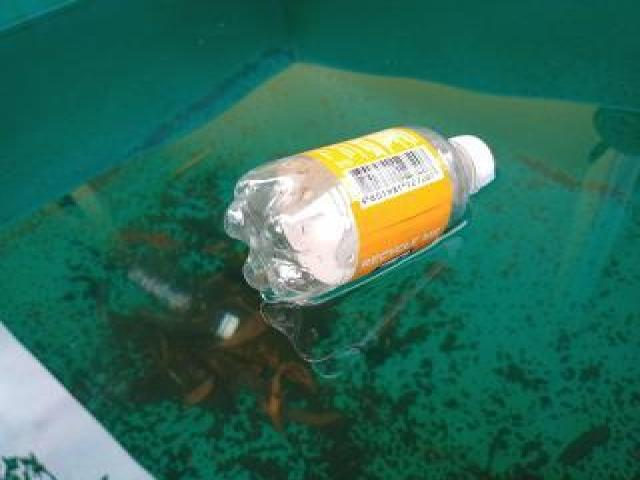Bottle: (219, 116, 506, 309)
